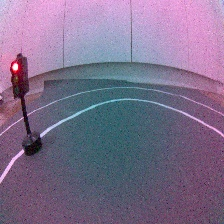red: (8, 51, 44, 160)
